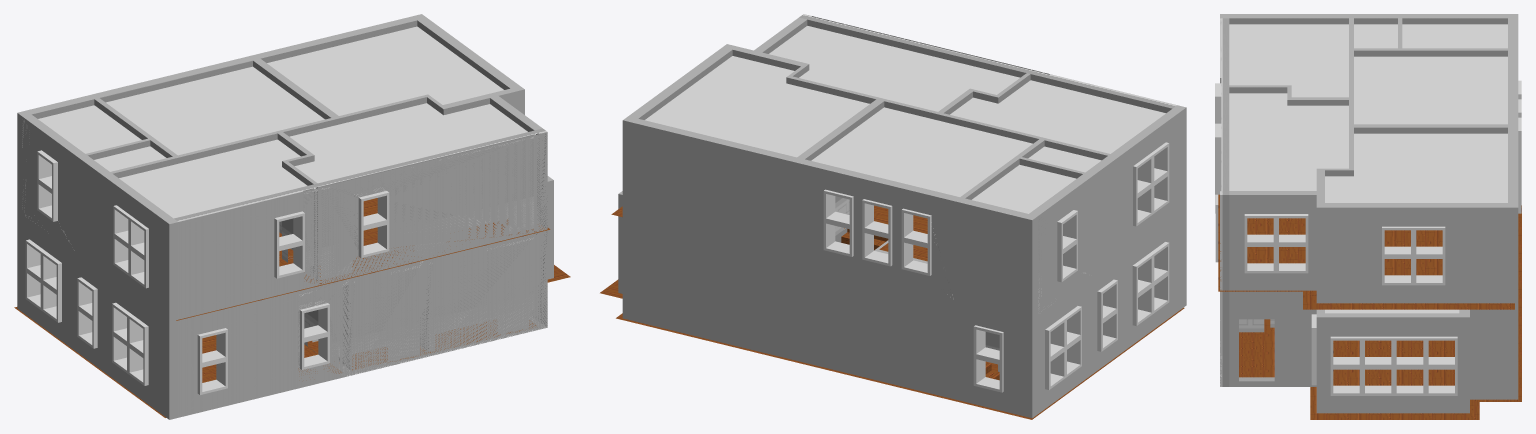
File: TwoStoyHouse.fbx
3 renders of one model, left to right at view 1: azimuth 30°, elevation 25°; view 2: azimuth 150°, elevation 25°; view 3: azimuth 270°, elevation 25°, orthographic. The views are drawn at different scales.
Parts seen in each view (by area): view 1: FirstFloor, GroundFloor, Roof_first, Windows_Ground, Windows_First, Floor_first, Floor_ground; view 2: FirstFloor, GroundFloor, Roof_first, Windows_First, Windows_Ground, Floor_ground, Floor_first; view 3: Roof_first, FirstFloor, GroundFloor, Floor_ground, Windows_First, Floor_first, Windows_Ground, Roof_Ground.
Part boxes in pixels (box(x1,y1,x2,y2)): FirstFloor: box(17, 14, 547, 321); GroundFloor: box(17, 176, 553, 419); Roof_first: box(38, 26, 535, 218); Windows_Ground: box(25, 239, 329, 394); Windows_First: box(37, 150, 389, 288); Floor_first: box(176, 198, 550, 320); Floor_ground: box(14, 265, 570, 417); FirstFloor: box(622, 14, 1186, 319); GroundFloor: box(618, 191, 1186, 418); Roof_first: box(645, 26, 1165, 213); Windows_First: box(823, 142, 1169, 282); Windows_Ground: box(973, 242, 1169, 392); Floor_ground: box(600, 279, 1184, 419); Floor_first: box(611, 205, 927, 261); Roof_first: box(1229, 24, 1507, 202); FirstFloor: box(1220, 14, 1518, 303); GroundFloor: box(1220, 291, 1518, 413); Floor_ground: box(1239, 205, 1521, 419); Windows_First: box(1215, 80, 1521, 285); Floor_first: box(1218, 194, 1514, 309); Windows_Ground: box(1215, 188, 1521, 395); Roof_Ground: box(1325, 309, 1459, 313).
Bounding box in the file's own units: 24.16 × 10 × 14.49.
